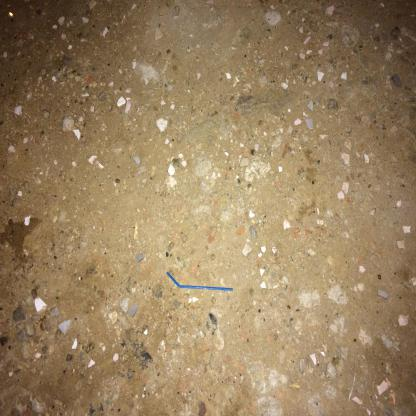Plastic straw: (166, 271, 233, 291)
